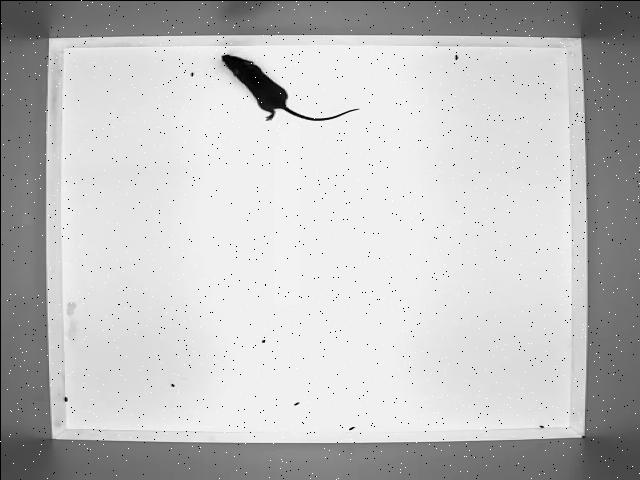Tikus: (207, 40, 365, 126)
